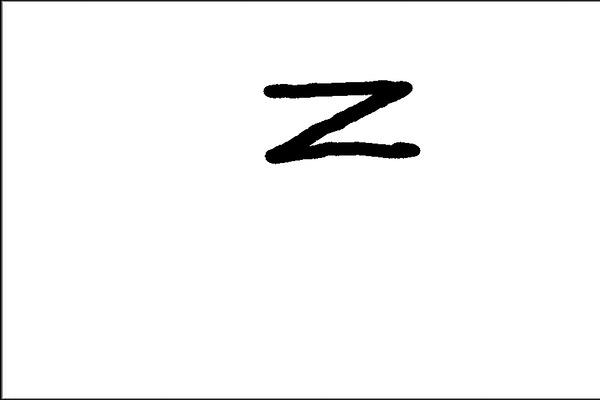Z: (256, 71, 433, 173)
